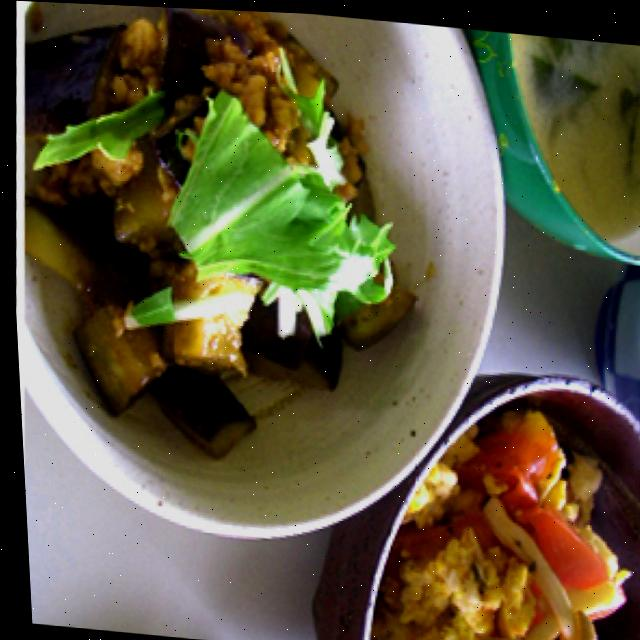鸡蛋料理: (0, 0, 444, 488)
